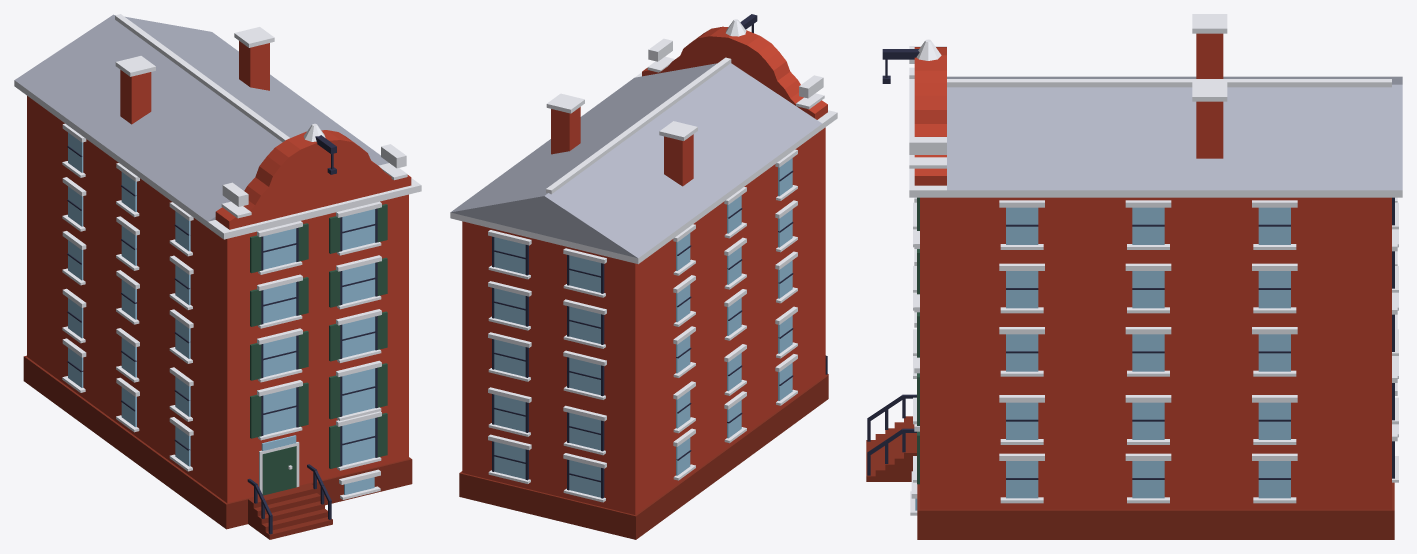
File: house-1x2-5f-dutch-a.glb
3 views of the same model, side by side, from view 1: azimuth 30°, elevation 25°; view 2: azimuth 150°, elevation 25°; view 3: azimuth 270°, elevation 25° (orthographic). The views are drawn at different scales.
Parts seen in each view (by area): view 1: house-1x2-5f-dutch-a; view 2: house-1x2-5f-dutch-a; view 3: house-1x2-5f-dutch-a.
Part boxes in pixels (x1,y1,x2,y2): house-1x2-5f-dutch-a: [14, 14, 421, 539]; house-1x2-5f-dutch-a: [450, 14, 837, 539]; house-1x2-5f-dutch-a: [866, 14, 1402, 539].
Bounding box in the file's own units: 1 × 1.83 × 2.
Materials: 1 (1 with a texture image).
